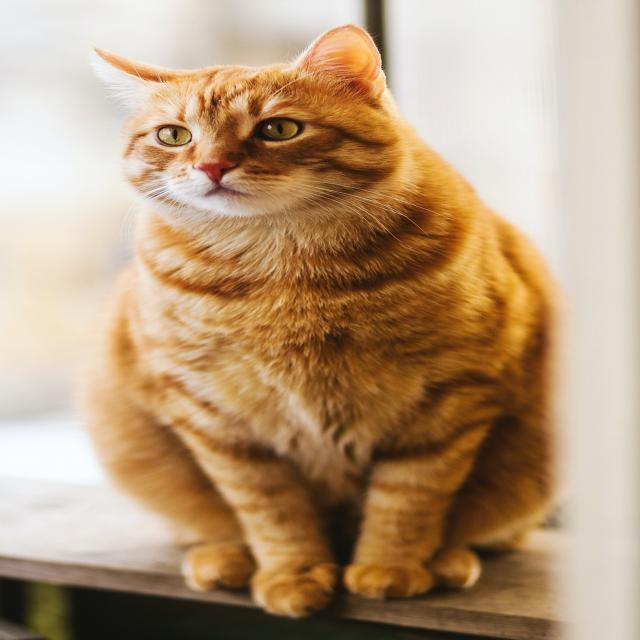cat: (73, 26, 566, 620)
